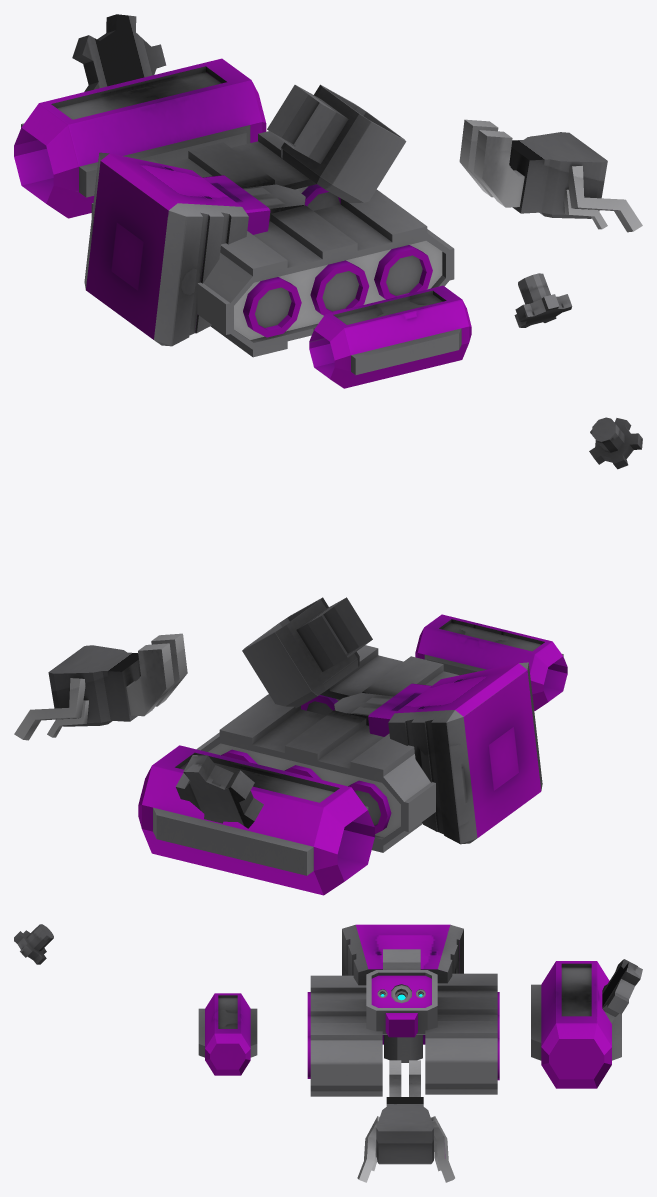
Rendered from Enemy2_Die26.obj.
3 renders of one model, top to bottom at view 1: azimuth 30°, elevation 25°; view 2: azimuth 150°, elevation 25°; view 3: azimuth 270°, elevation 25°, orthographic. The views are drawn at different scales.
Visible parts, largest first — view 1: Object006, Object013, Object011, Object014, Object010, Object012, Object009, Object008; view 2: Object011, Object013, Object006, Object010, Object012, Object014, Object009, Object008; view 3: Object006, Object011, Object013, Object010, Object012, Object014, Object009, Object008.
Boxes of the visible parts, x1,y1,x2,y2 form: Object006: (91, 131, 454, 357); Object013: (84, 152, 305, 346); Object011: (14, 58, 266, 218); Object014: (309, 285, 471, 388); Object010: (459, 119, 642, 232); Object012: (267, 84, 406, 202); Object009: (72, 14, 166, 91); Object008: (514, 273, 572, 327); Object011: (138, 745, 374, 895); Object013: (334, 662, 542, 844); Object006: (197, 645, 458, 852); Object010: (14, 633, 187, 740); Object012: (242, 597, 372, 708); Object014: (415, 614, 567, 710); Object009: (175, 755, 263, 828); Object008: (589, 417, 642, 469); Object006: (307, 973, 499, 1096); Object011: (531, 961, 621, 1088); Object013: (342, 924, 463, 1062); Object010: (357, 1060, 454, 1182); Object012: (366, 949, 437, 1037); Object014: (198, 993, 257, 1075); Object009: (602, 959, 642, 1023); Object008: (14, 924, 53, 964).
Bounding box in the file's own units: 187 × 75.99 × 298.
